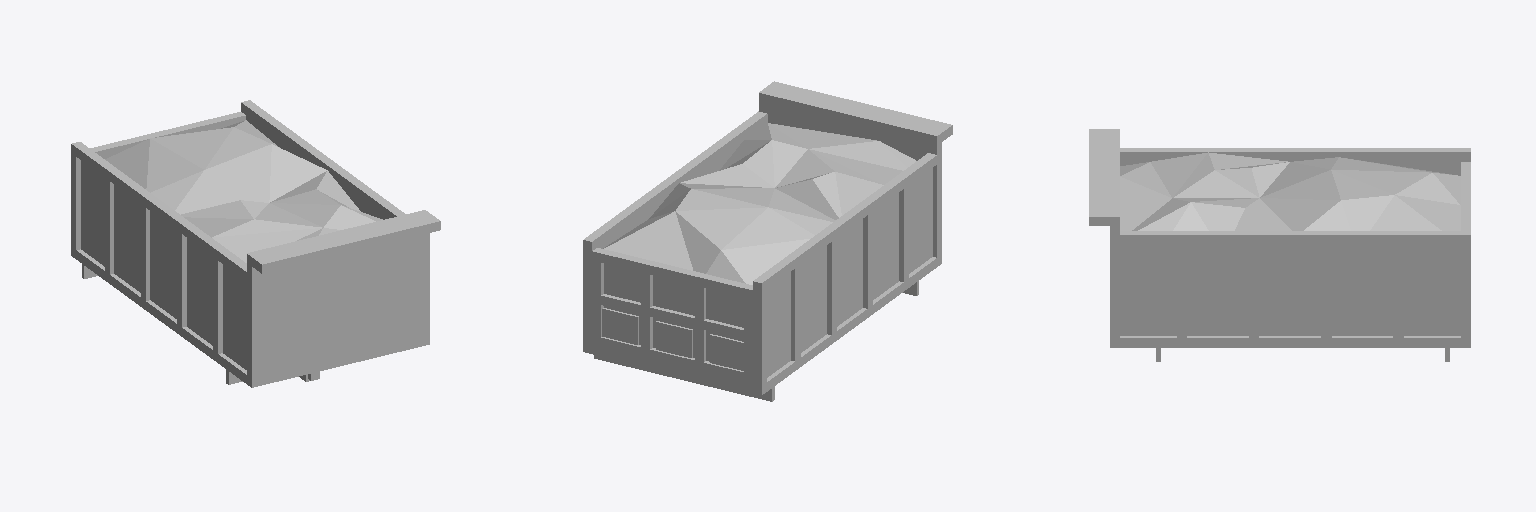
The model's file is brigbeddump.obj.
The picture shows the model from 3 angles: view 1: azimuth 30°, elevation 25°; view 2: azimuth 150°, elevation 25°; view 3: azimuth 270°, elevation 25°; orthographic projection.
Parts seen in each view (by area): view 1: dumpbed, filler, tailgate; view 2: dumpbed, filler, tailgate; view 3: dumpbed, filler, tailgate.
Boxes of the visible parts, x1,y1,x2,y2 form: dumpbed: [71, 100, 440, 387]; filler: [105, 120, 382, 262]; tailgate: [90, 112, 245, 158]; dumpbed: [583, 81, 952, 401]; filler: [603, 123, 915, 284]; tailgate: [592, 248, 752, 383]; dumpbed: [1089, 129, 1470, 361]; filler: [1120, 152, 1460, 230]; tailgate: [1461, 162, 1470, 230].
Bounding box in the file's own units: 2.5 × 2.22 × 4.62.